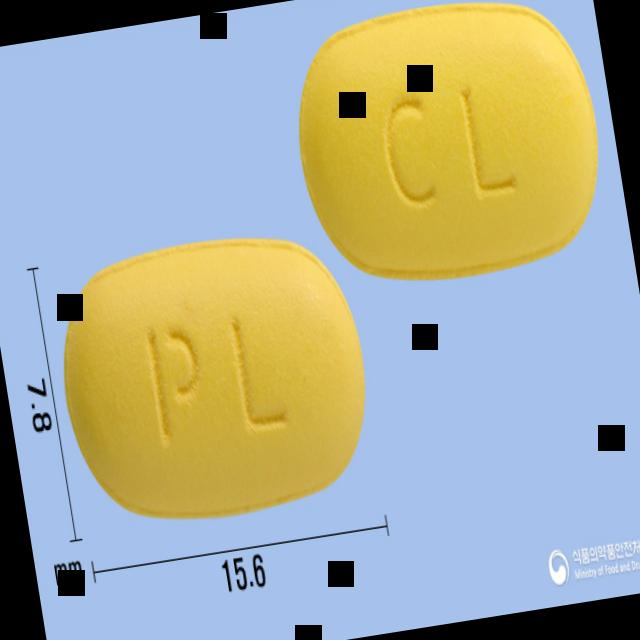Cefixime Cap- Nelson: (45, 217, 385, 539), (280, 0, 616, 296)
